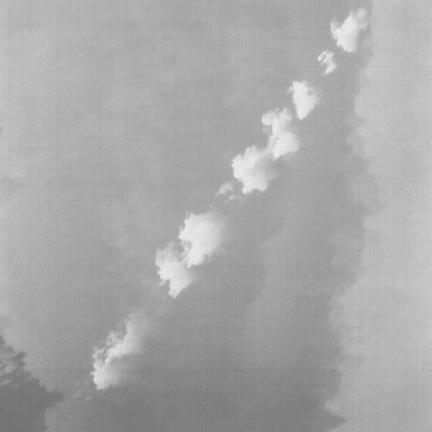flukeprints: (92, 312, 144, 389), (179, 212, 224, 266), (155, 242, 196, 297), (232, 146, 275, 193), (261, 109, 299, 158), (331, 8, 367, 52), (288, 80, 319, 119), (317, 50, 336, 74), (215, 181, 233, 196), (224, 194, 242, 203)
